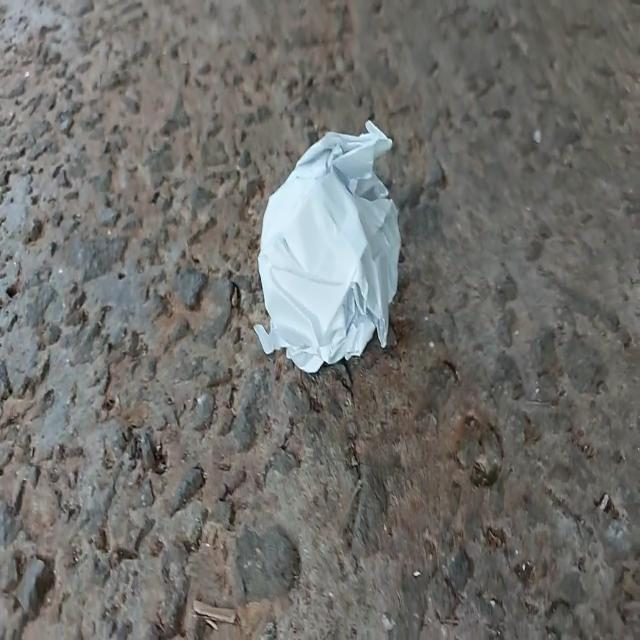Paper: (226, 90, 426, 388)
